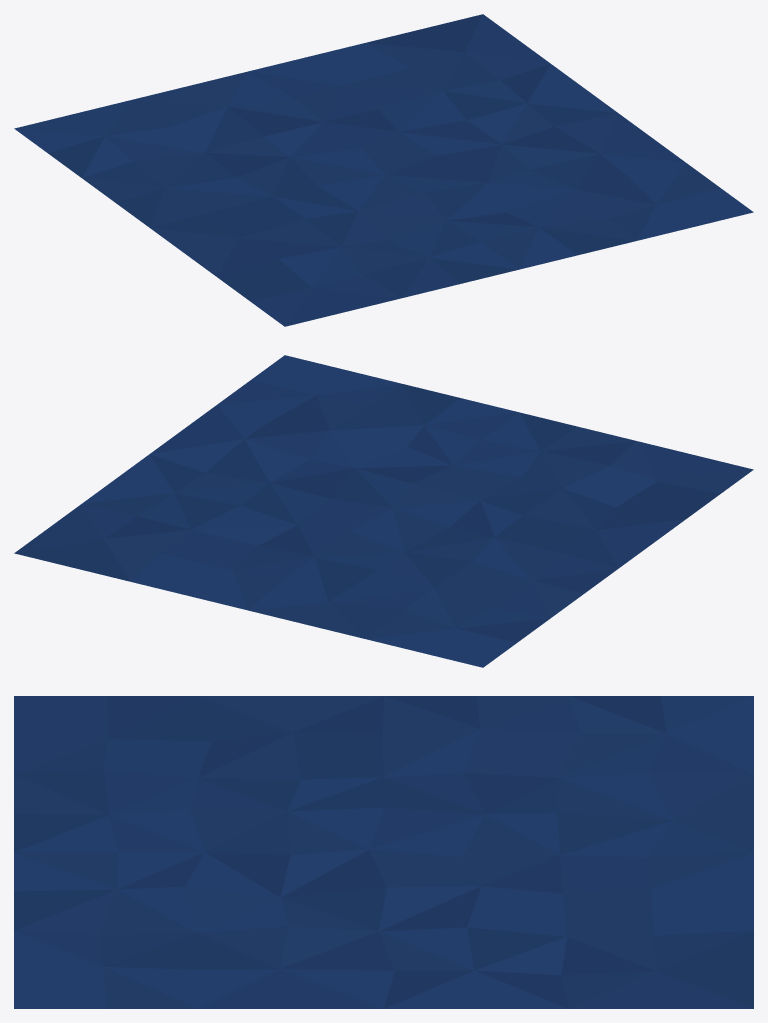
The model's file is ground_deep_water_b.glb.
3 renders of one model, top to bottom at view 1: azimuth 30°, elevation 25°; view 2: azimuth 150°, elevation 25°; view 3: azimuth 270°, elevation 25°, orthographic. The views are drawn at different scales.
Visible parts, largest first — view 1: ground_deep_water_b; view 2: ground_deep_water_b; view 3: ground_deep_water_b.
Part boxes in pixels (x1,y1,x2,y2): ground_deep_water_b: (14,14,753,326); ground_deep_water_b: (14,355,753,667); ground_deep_water_b: (14,696,753,1008).
Bounding box in the file's own units: 4 × 0.0239 × 4.
